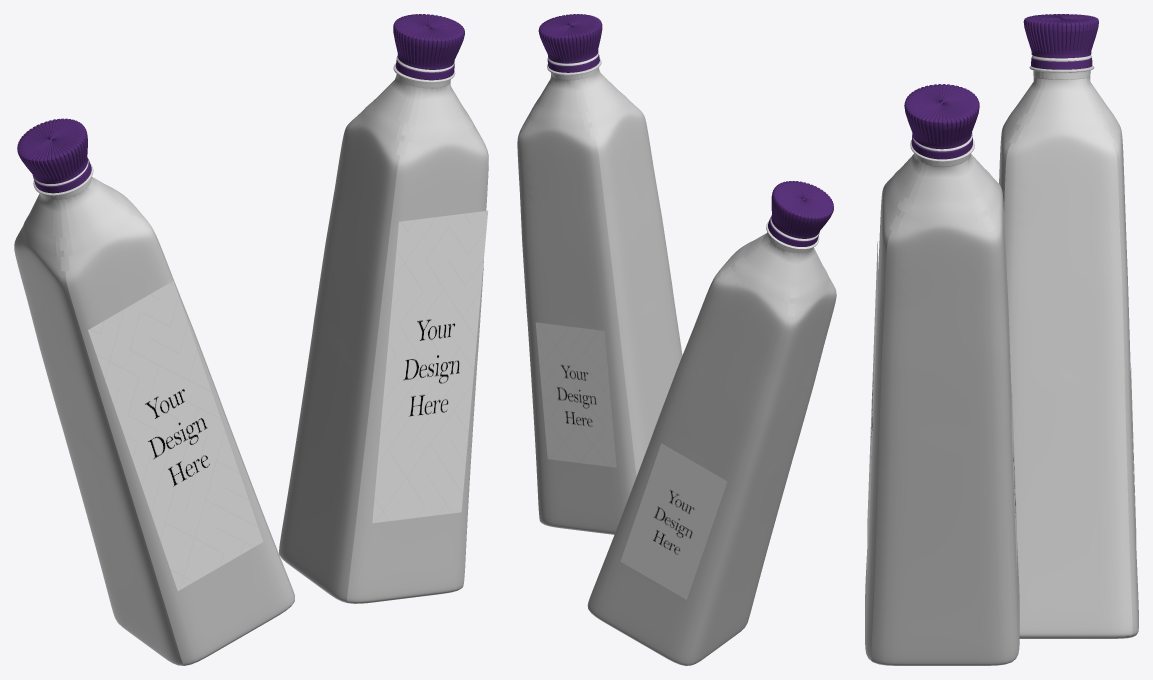
File: Plastic Bottle A-4.glb
The picture shows the model from 3 angles, left to right: view 1: azimuth 30°, elevation 25°; view 2: azimuth 150°, elevation 25°; view 3: azimuth 270°, elevation 25°; orthographic projection. The views are drawn at different scales.
Parts seen in each view (by area): view 1: bottle001.001, bottle001, Plane.001, Plane.004, Mesh_1, Mesh_1.001; view 2: bottle001, bottle001.001, Plane.001, Plane.004, Mesh_1, Mesh_1.001; view 3: bottle001.001, bottle001, Mesh_1.001, Mesh_1, Plane.004, Circle003001, Circle003001.001.
Boxes of the visible parts, x1,y1,x2,y2 form: bottle001.001: (279, 56, 488, 603); bottle001: (14, 160, 294, 665); Plane.001: (88, 281, 263, 590); Plane.004: (372, 210, 488, 523); Mesh_1: (17, 118, 87, 183); Mesh_1.001: (393, 14, 464, 69); bottle001: (587, 216, 836, 665); bottle001.001: (517, 52, 682, 534); Plane.001: (620, 443, 727, 599); Plane.004: (535, 322, 616, 467); Mesh_1: (771, 181, 833, 238); Mesh_1.001: (538, 14, 602, 63); bottle001.001: (865, 132, 1019, 665); bottle001: (999, 55, 1138, 638); Mesh_1.001: (904, 84, 979, 149); Mesh_1: (1023, 14, 1098, 58); Plane.004: (867, 244, 1016, 574); Circle003001: (1031, 57, 1092, 69); Circle003001.001: (911, 135, 972, 159).
Bounding box in the file's own units: 2.38 × 3.57 × 1.4.
Materials: 4 (1 with a texture image).
